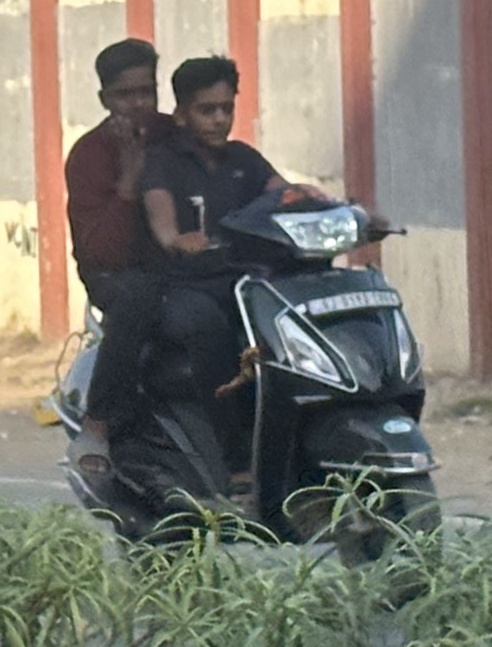BikeWithRider: (26, 27, 459, 644)
NoHelmet: (163, 50, 249, 151), (84, 31, 170, 132)
